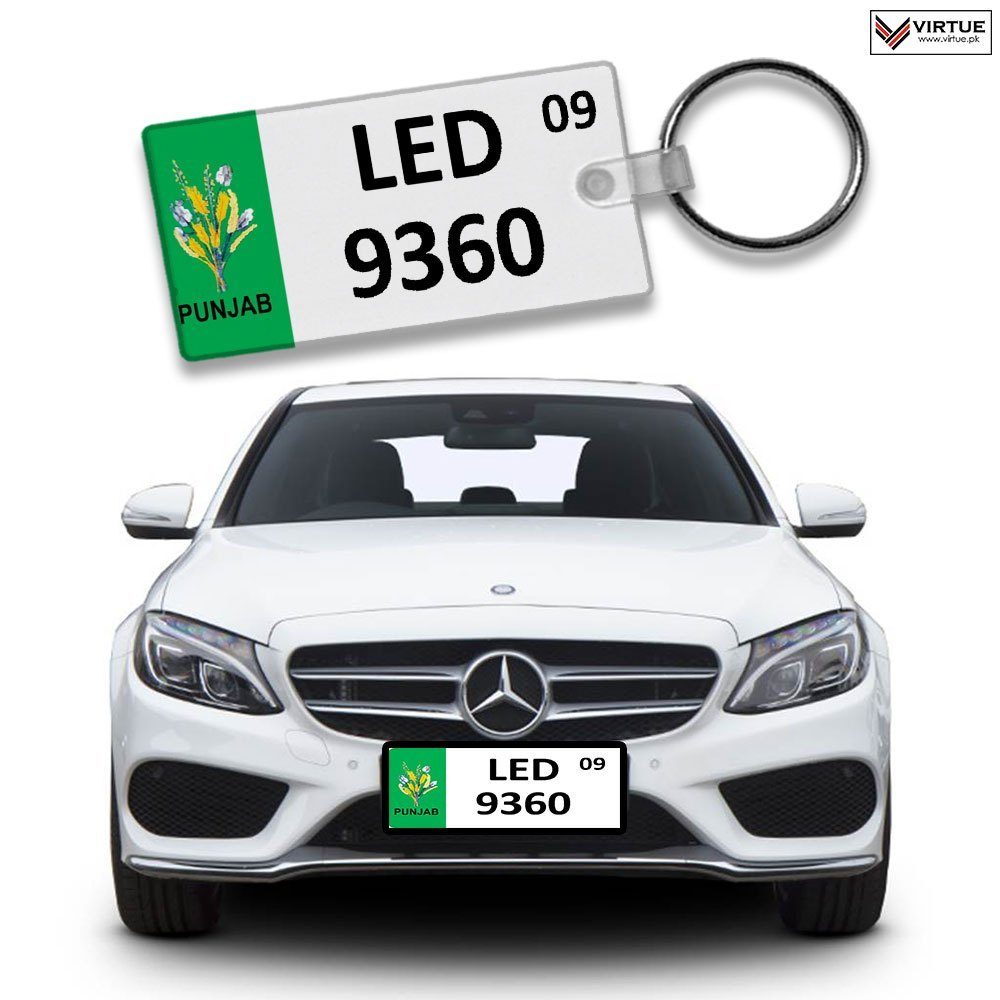plate: (138, 57, 659, 371), (377, 736, 632, 843)
